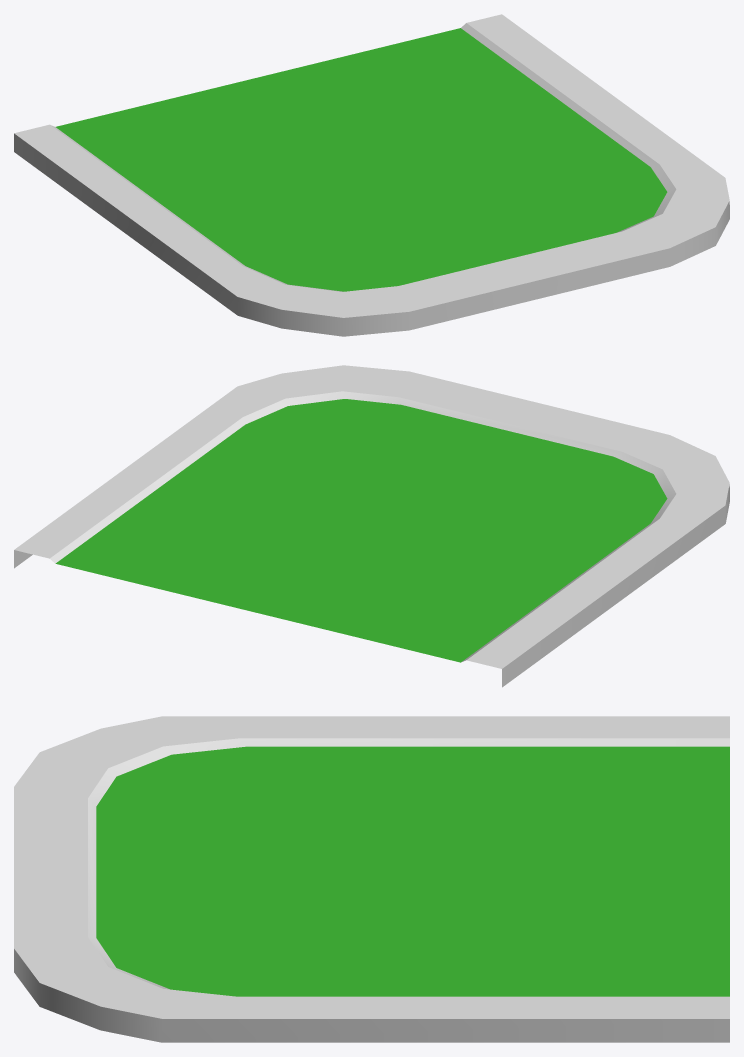
Rendered from GrassBed_1_B_8.fbx.
3 renders of one model, top to bottom at view 1: azimuth 30°, elevation 25°; view 2: azimuth 150°, elevation 25°; view 3: azimuth 270°, elevation 25°, orthographic. The views are drawn at different scales.
Parts seen in each view (by area): view 1: GrassBed_1_B_8; view 2: GrassBed_1_B_8; view 3: GrassBed_1_B_8.
Part boxes in pixels (box(x1,y1,x2,y2)): GrassBed_1_B_8: box(14, 14, 729, 336); GrassBed_1_B_8: box(14, 365, 729, 687); GrassBed_1_B_8: box(14, 716, 729, 1042).
Size of the model in its own units: 200 by 7.32 by 200.
